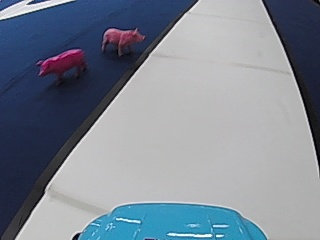pig: (35, 45, 87, 87), (99, 24, 145, 56)
